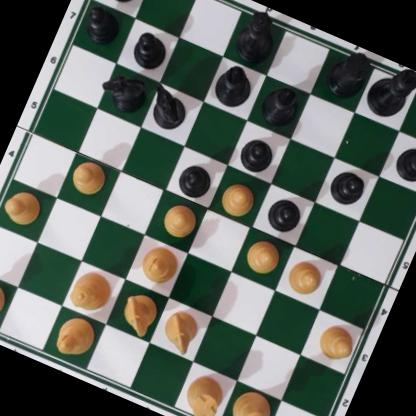black-bishop: (256, 81, 306, 131), (210, 60, 258, 112)
black-king: (361, 58, 416, 127)
black-knight: (142, 81, 193, 133), (97, 67, 150, 115)
black-pawn: (79, 1, 125, 47), (235, 130, 281, 176), (325, 164, 370, 210), (175, 157, 218, 202), (263, 192, 306, 237), (128, 26, 170, 72), (390, 140, 416, 188)
black-queen: (229, 3, 286, 69)
black-rook: (319, 43, 377, 106), (91, 0, 155, 7)
white-bishop: (50, 310, 99, 363), (138, 241, 184, 288)
white-king: (221, 384, 283, 416)
white-knight: (156, 305, 206, 357), (116, 289, 163, 338)
white-pawn: (312, 318, 360, 366), (283, 252, 329, 301), (0, 184, 47, 229), (216, 176, 261, 220), (241, 234, 285, 278), (67, 155, 111, 199), (159, 198, 201, 242)
white-queen: (66, 263, 117, 319)
white-rook: (179, 371, 230, 416), (0, 271, 11, 328)
